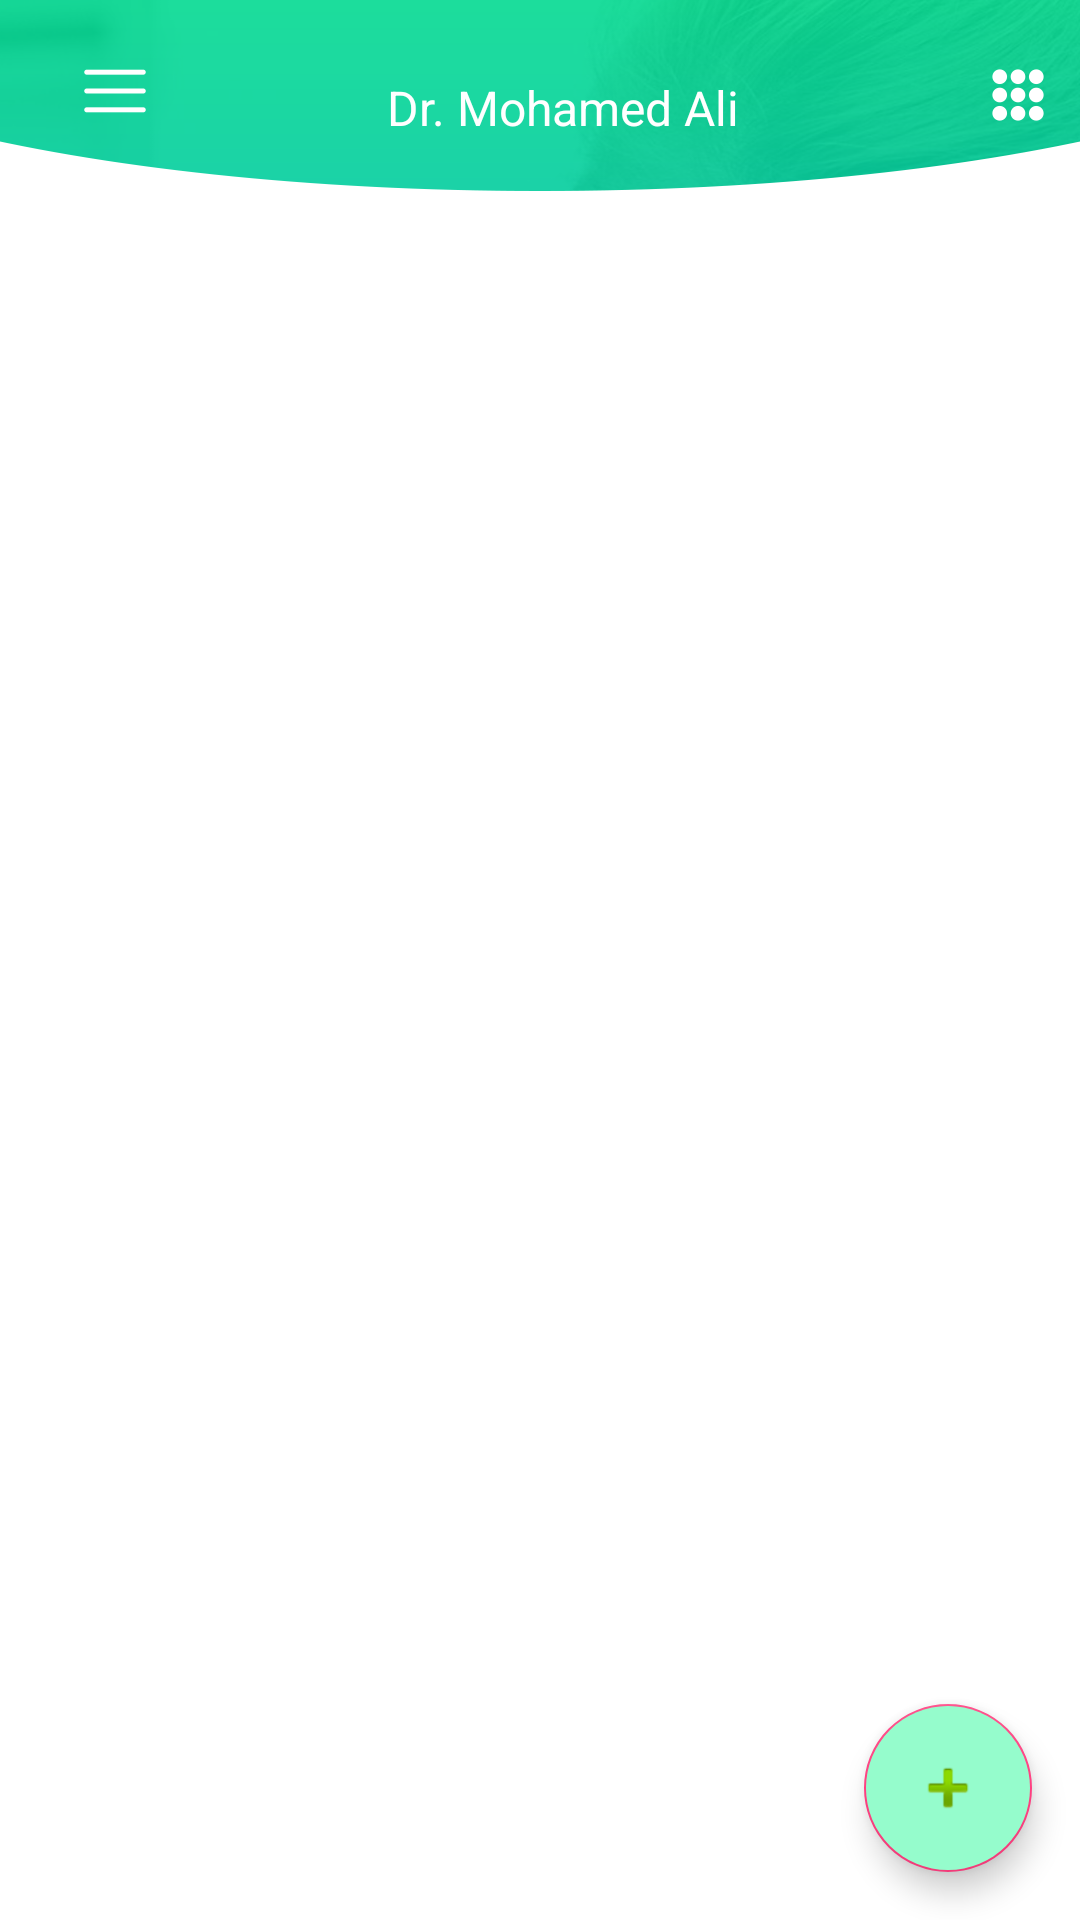

Named icons in this screenshot (1080×1920) and their bounding boxes, region(x1, y1, x2, y2):
add: region(864, 1704, 1032, 1872)
menu: region(84, 69, 146, 113), region(992, 69, 1044, 121)
